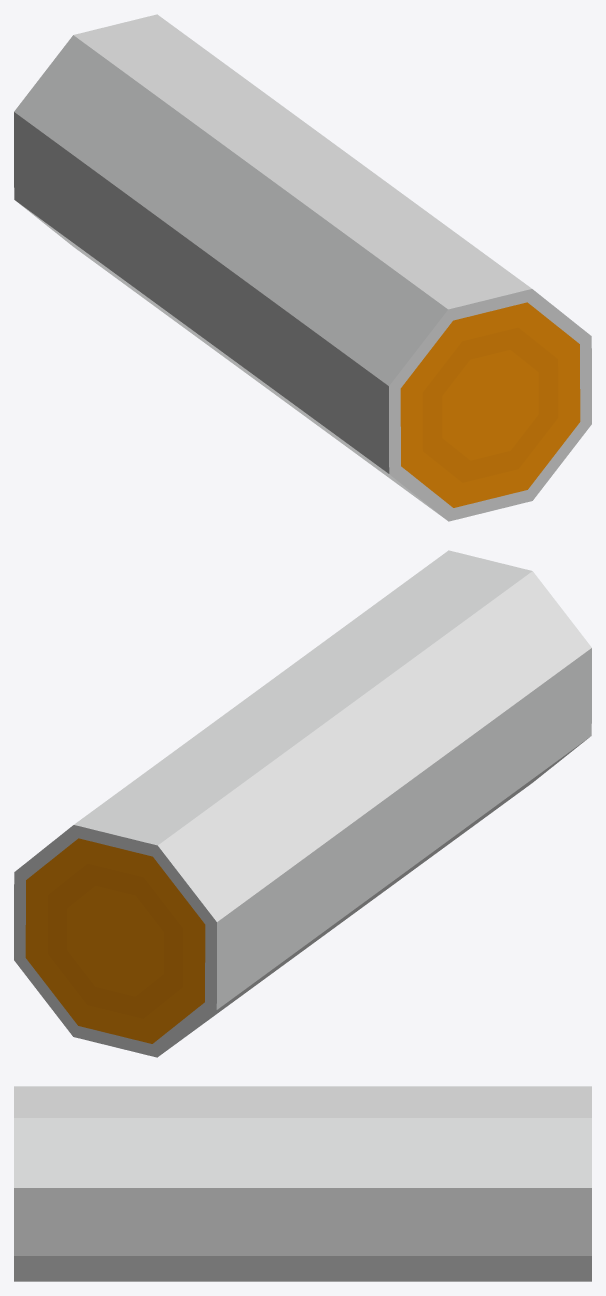
The model's file is Small Log_9.fbx.
The picture shows the model from 3 angles, top to bottom: view 1: azimuth 30°, elevation 25°; view 2: azimuth 150°, elevation 25°; view 3: azimuth 270°, elevation 25°; orthographic projection. The views are drawn at different scales.
Parts seen in each view (by area): view 1: Circle.242; view 2: Circle.242; view 3: Circle.242.
Part boxes in pixels (x1=…): Circle.242: x1=14, y1=14, x2=591, y2=521; Circle.242: x1=14, y1=550, x2=591, y2=1057; Circle.242: x1=14, y1=1086, x2=591, y2=1281.
Bounding box in the file's own units: 7.36 × 7.36 × 23.54.
